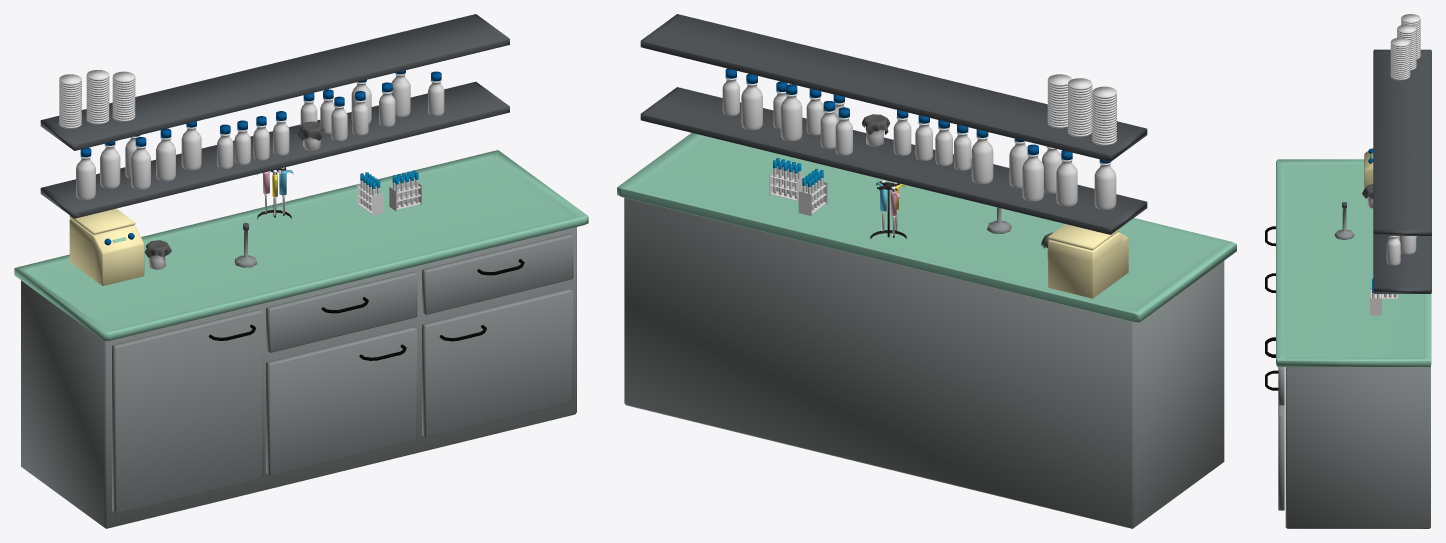
The model's file is LAB_C4.fbx.
The picture shows the model from 3 angles, left to right: view 1: azimuth 30°, elevation 25°; view 2: azimuth 150°, elevation 25°; view 3: azimuth 270°, elevation 25°; orthographic projection. The views are drawn at different scales.
Parts seen in each view (by area): view 1: Torus.000, Torus.004, Torus.002, Cube, Circle.003, Circle.011, Circle.012, Torus.003, inhalt.002, inhalt.005, inhalt, inhalt.004 (+4 smaller); view 2: Torus.000, Torus.004, Torus.002, Cube, Circle.003, Circle.011, Circle.012, inhalt.006, inhalt.003, inhalt.004, inhalt.007, inhalt.001 (+10 smaller); view 3: Torus.000, Torus.004, Torus.002, Circle.012, Circle.003, Torus.003, inhalt_klein.001, Circle.011, Cube, inhalt.007, Circle.013, Plane.004.
Part boxes in pixels (x1=…): Torus.000: x1=21, y1=227, x2=576, y2=528; Torus.004: x1=14, y1=150, x2=588, y2=341; Torus.002: x1=40, y1=14, x2=509, y2=218; Cube: x1=69, y1=208, x2=144, y2=285; Circle.003: x1=86, y1=70, x2=109, y2=124; Circle.011: x1=59, y1=74, x2=81, y2=128; Circle.012: x1=112, y1=71, x2=135, y2=121; Torus.003: x1=209, y1=259, x2=524, y2=360; inhalt.002: x1=131, y1=137, x2=150, y2=189; inhalt.005: x1=156, y1=128, x2=175, y2=181; inhalt: x1=76, y1=147, x2=95, y2=200; inhalt.004: x1=181, y1=121, x2=201, y2=170; Torus.000: x1=624, y1=198, x2=1224, y2=528; Torus.004: x1=617, y1=133, x2=1236, y2=322; Torus.002: x1=640, y1=14, x2=1147, y2=234; Cube: x1=1048, y1=224, x2=1128, y2=298; Circle.003: x1=1067, y1=78, x2=1092, y2=137; Circle.011: x1=1092, y1=86, x2=1116, y2=145; Circle.012: x1=1047, y1=74, x2=1071, y2=128; inhalt.006: x1=780, y1=84, x2=802, y2=141; inhalt.003: x1=1022, y1=144, x2=1043, y2=201; inhalt.004: x1=971, y1=129, x2=993, y2=184; inhalt.007: x1=741, y1=74, x2=762, y2=130; inhalt.001: x1=1056, y1=150, x2=1077, y2=206; Torus.000: x1=1278, y1=367, x2=1430, y2=528; Torus.004: x1=1276, y1=159, x2=1431, y2=366; Torus.002: x1=1373, y1=49, x2=1431, y2=293; Circle.012: x1=1390, y1=37, x2=1410, y2=80; Circle.003: x1=1397, y1=24, x2=1416, y2=70; Torus.003: x1=1265, y1=226, x2=1278, y2=390; inhalt_klein.001: x1=1386, y1=236, x2=1400, y2=265; Circle.011: x1=1401, y1=14, x2=1420, y2=59; Cube: x1=1364, y1=148, x2=1373, y2=198; inhalt.007: x1=1399, y1=236, x2=1416, y2=254; Circle.013: x1=1334, y1=202, x2=1354, y2=239; Plane.004: x1=1370, y1=287, x2=1381, y2=315.
Size of the model in its own units: 262 by 201 by 91.76.
